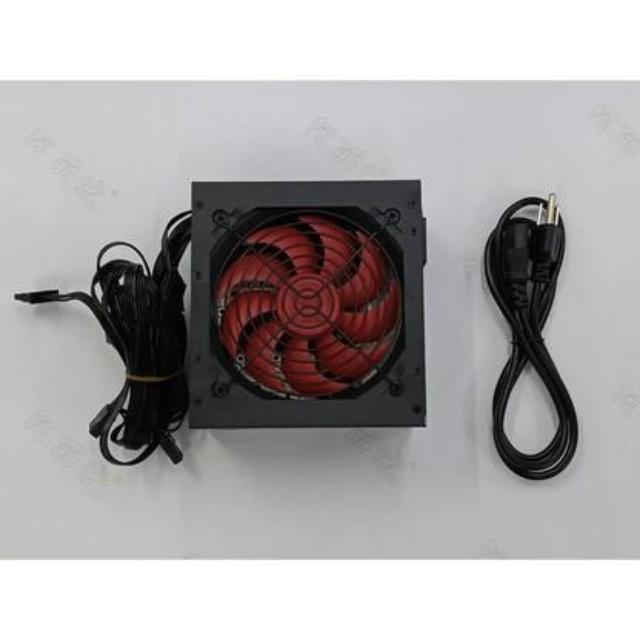PSU: (174, 171, 440, 443)
